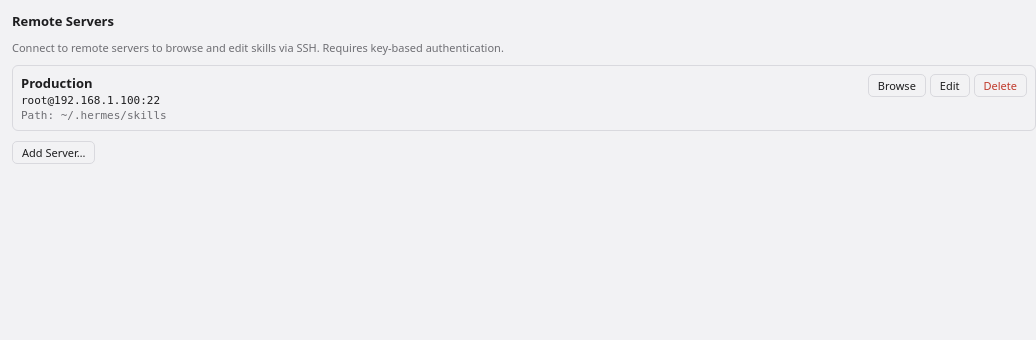
Test case: RemoteServersPanel (T16 part B) › edits a server through PUT /api/remote/servers/{id}
Expected: the text "Production" is shown, 21,74 -> 92,92
Click the button with aria-label "Edit Production". click: {"x": 950, "y": 86}
box: 930,74 -> 970,97
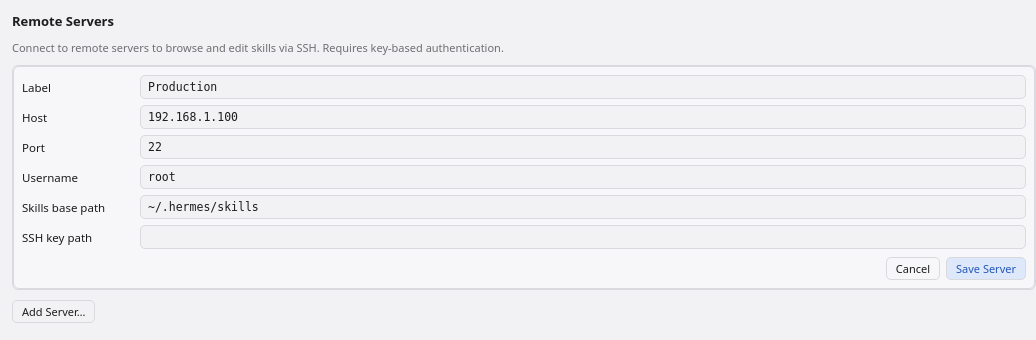
Replace the text in the field labelled "Host" with "10.0.0.9". click: {"x": 583, "y": 117}
box: 140,105 -> 1026,129
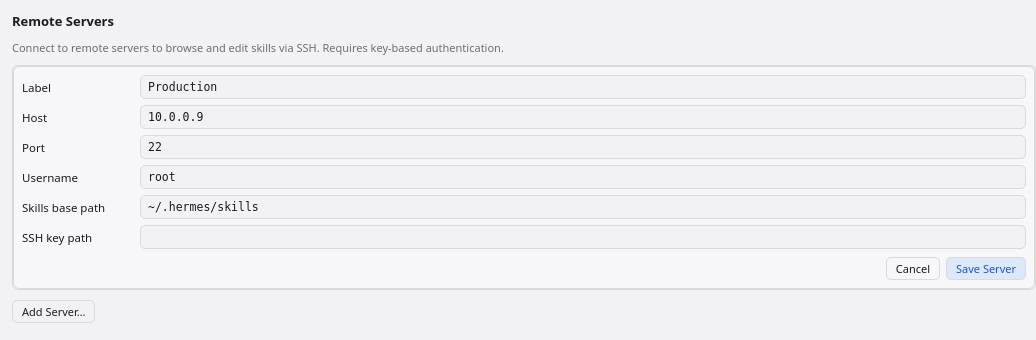
Click the button "Save Server". click: {"x": 986, "y": 268}
box: 946,257 -> 1026,280
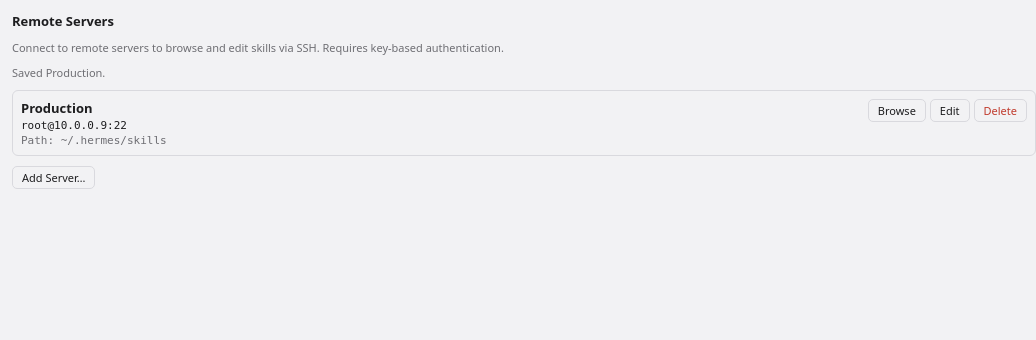
Expected: the text "root@10.0.0.9:22" is shown, 21,119 -> 127,132
Expected: the text "Saved Production." is shown, 12,65 -> 105,80
